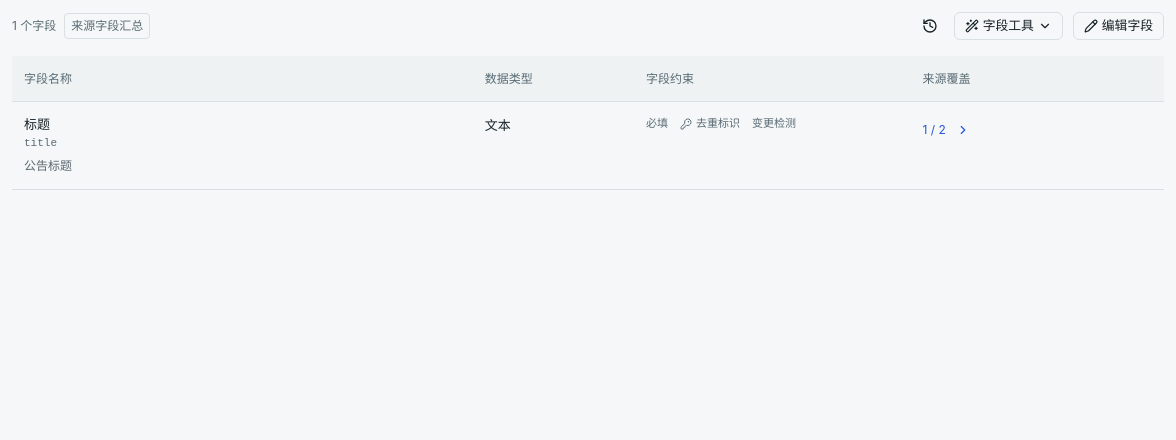
Scenario: keeps the local fields and captured revision after a conflict until explicit discard
What coordinates should you click on to do the following:
click the button "编辑字段"
I would click on:
 (1118, 26)
Its box is [1073,12,1164,40].
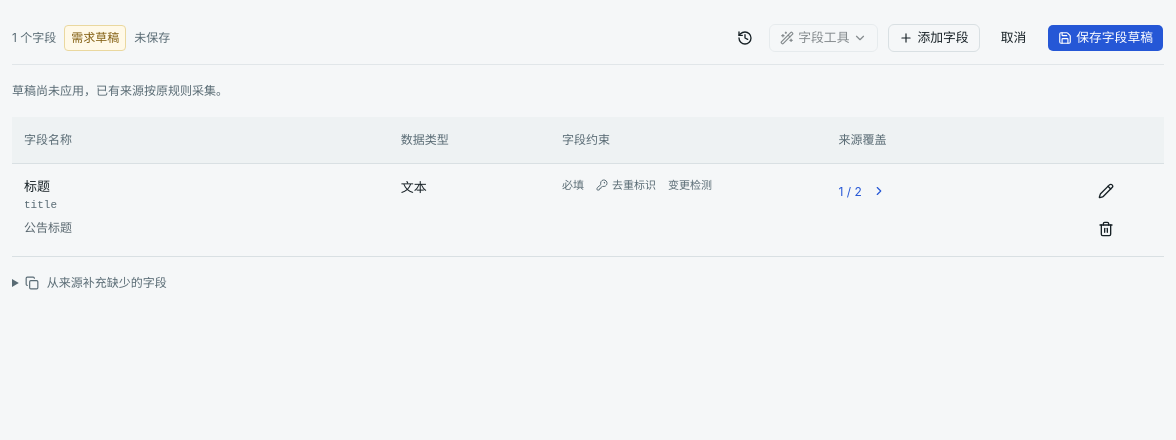
What coordinates should you click on to do the following:
click the button named "移除字段 标题"
I would click on:
 (1106, 229)
Its box is [1092,215,1120,243].
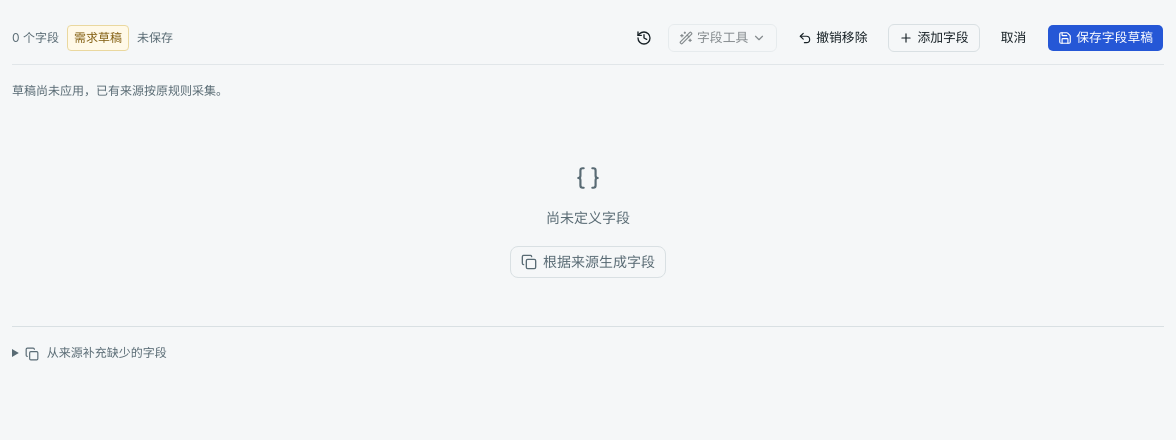
What coordinates should you click on to do the following:
click the button "保存字段草稿"
I would click on:
 (1106, 38)
Its box is [1047,24,1164,52].
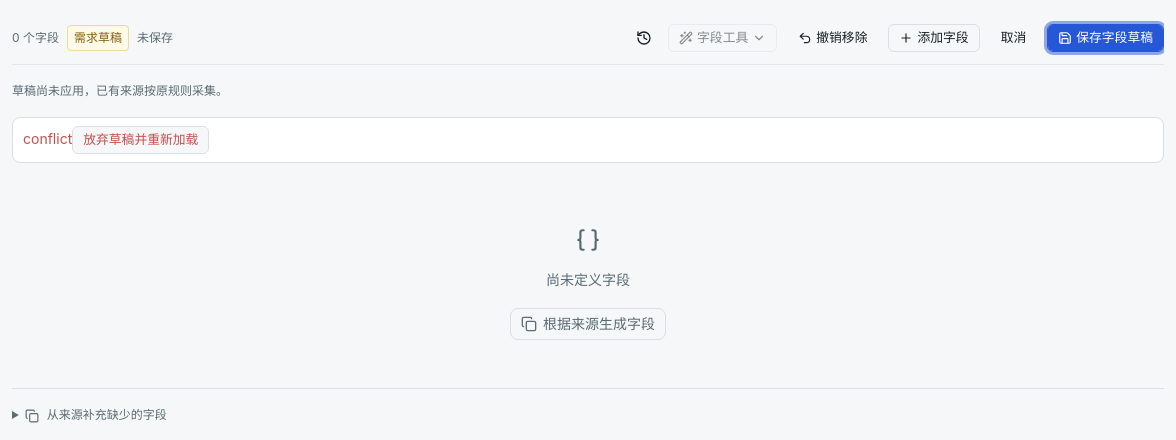
Check: the text "title" is not shown
Check: the message shows "conflict", box [23,130,72,147]
What coordinates should you click on to do the following:
click the button "放弃草稿并重新加载"
I would click on:
 (141, 140)
Its box is [72,126,209,154].
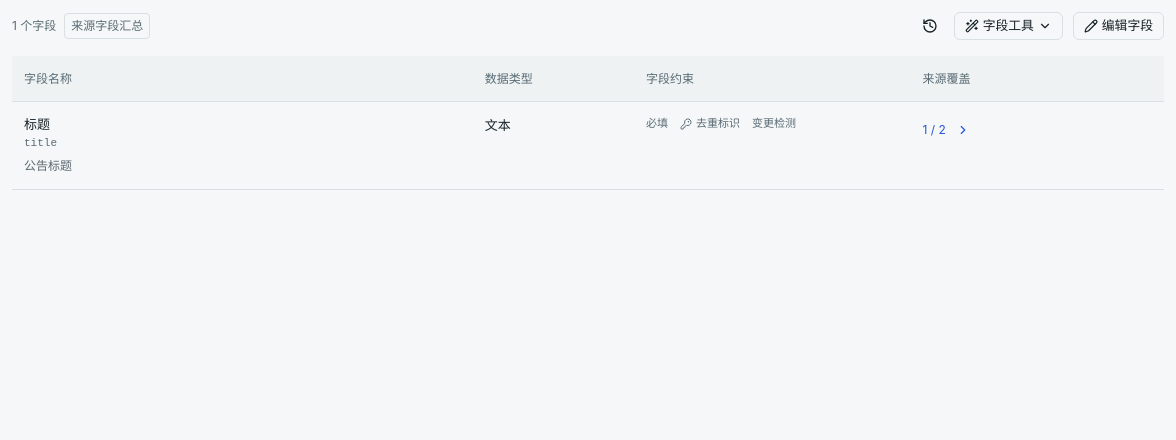
Check: the text "title" is shown, box [24,137,57,149]
